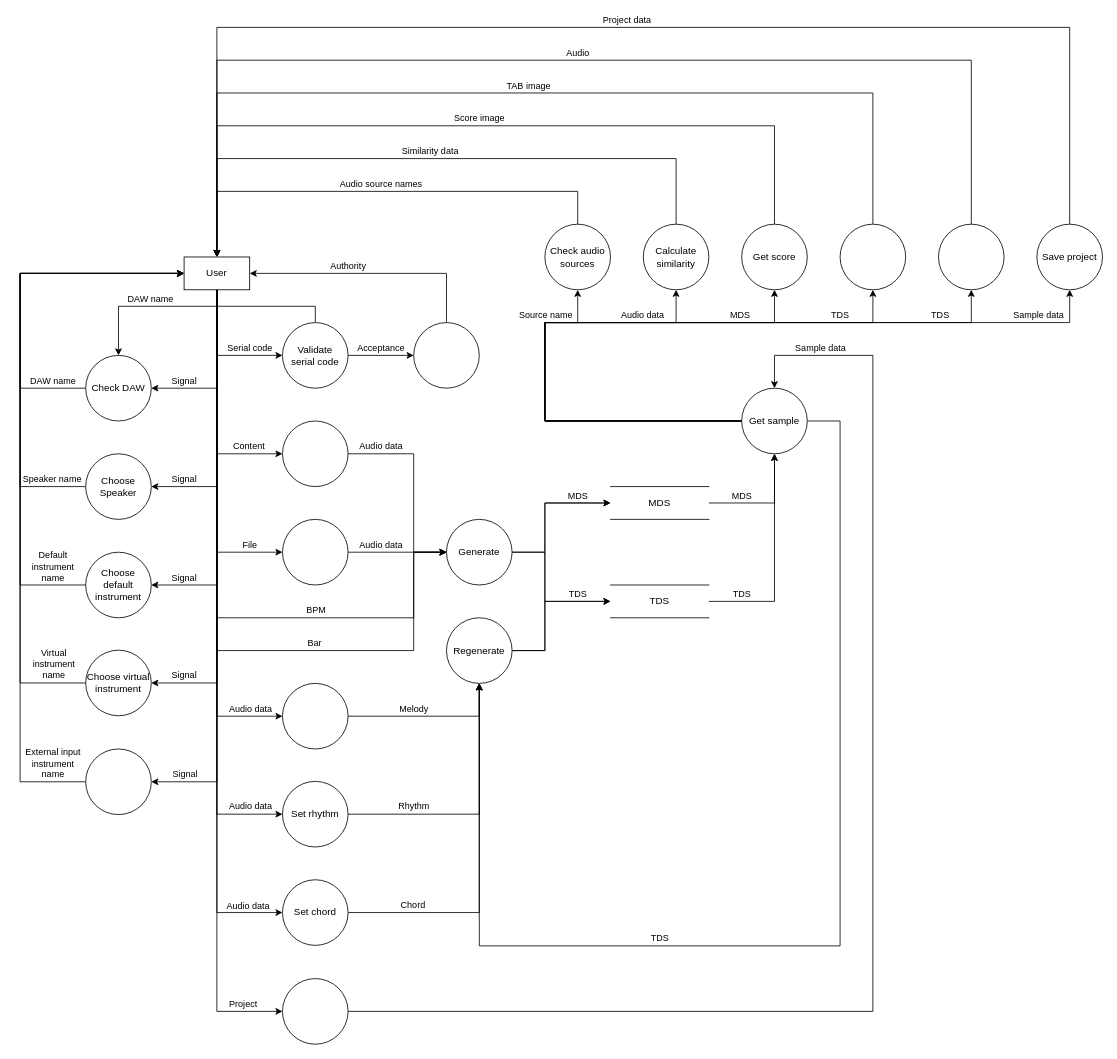
This 1117x1059 diagram has some shape labels left out. The shapes that lost their labels are listed below. From the top down, each one's centre as x and y in pixels, then its label:
At [872,256]: "Get TAB".
At [971,256]: "Get audio file".
At [446,355]: "Connect".
At [315,453]: "Search".
At [315,552]: "Drag and Drop file".
At [315,716]: "Set melody".
At [118,781]: "Choose instrument to external input".
At [315,1011]: "Load project".
